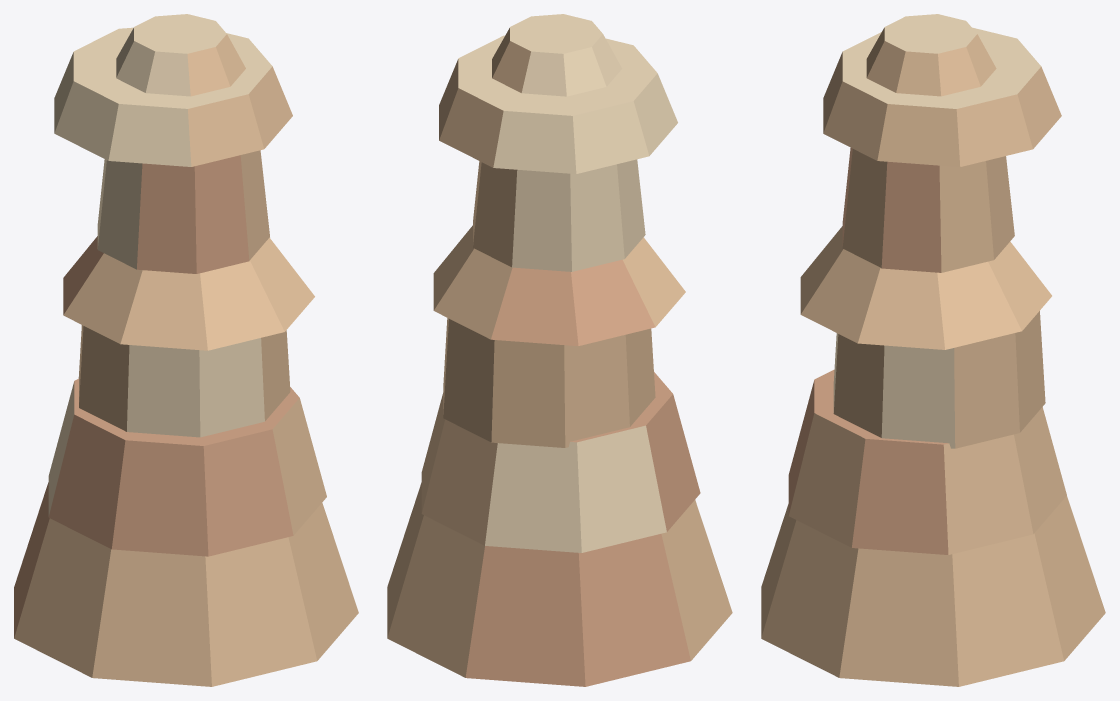
File: hoodoo.glb
3 views of the same model, side by side, from view 1: azimuth 30°, elevation 25°; view 2: azimuth 150°, elevation 25°; view 3: azimuth 270°, elevation 25° (orthographic).
Parts seen in each view (by area): view 1: Hoodoo; view 2: Hoodoo; view 3: Hoodoo.
Part boxes in pixels (<box>): Hoodoo: <box>14,14,358,686</box>; Hoodoo: <box>387,14,732,686</box>; Hoodoo: <box>761,14,1105,686</box>.
Bounding box in the file's own units: 5.12 × 9.34 × 5.04.
